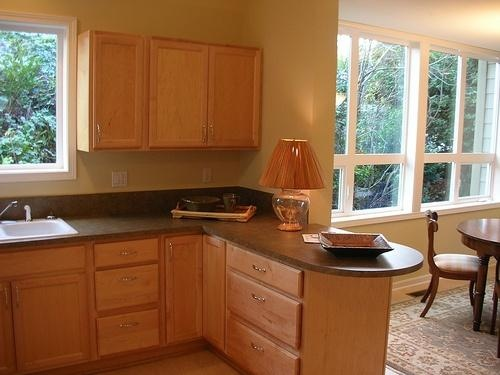chair: (419, 210, 482, 319)
diningtable: (457, 217, 500, 338)
